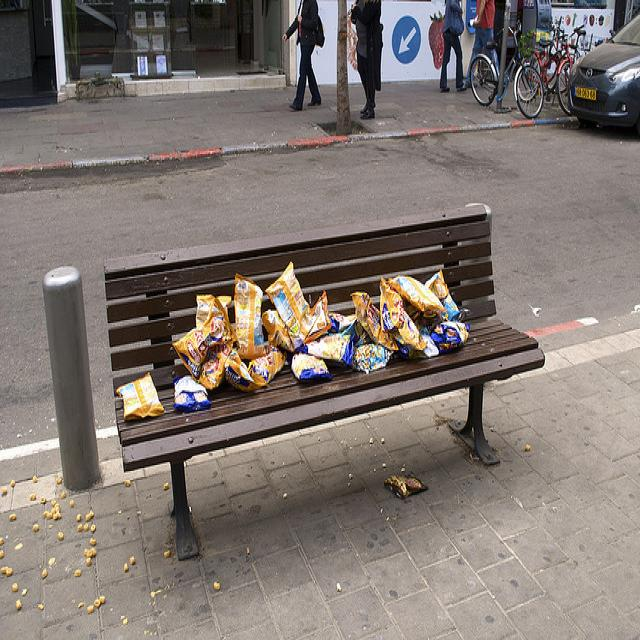Vehicle: (568, 11, 640, 138)
